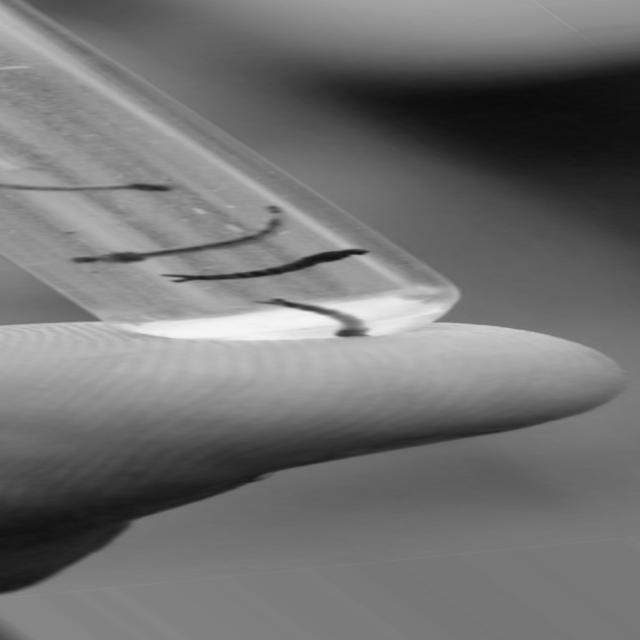larvas: (76, 213, 278, 268), (174, 247, 375, 289), (264, 300, 368, 334), (5, 182, 164, 197)
